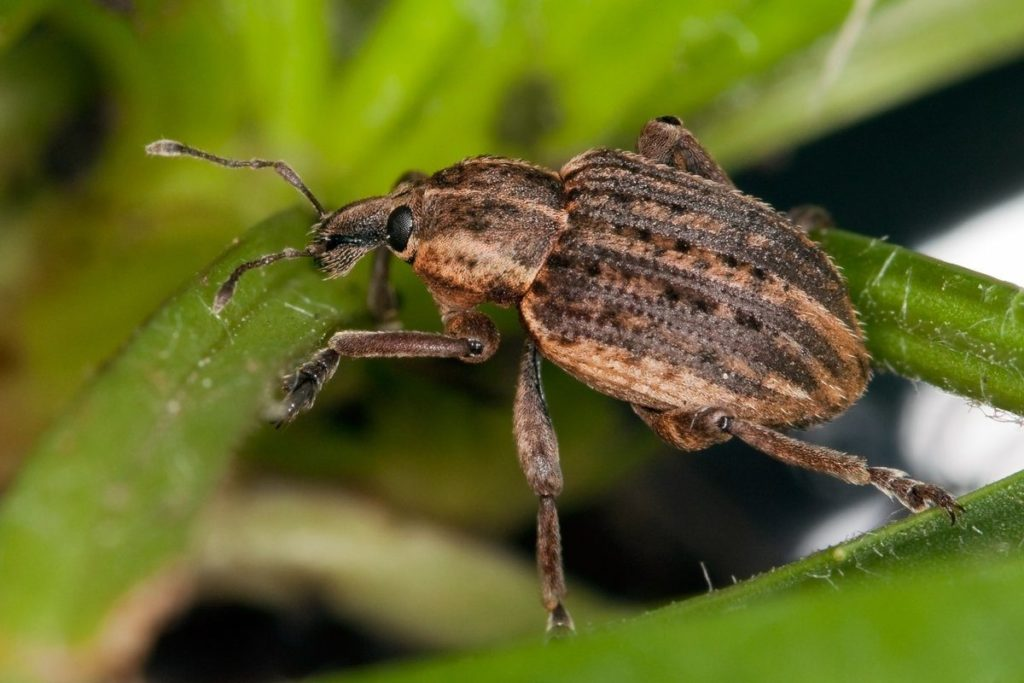dolgonosik: (139, 92, 962, 642)
